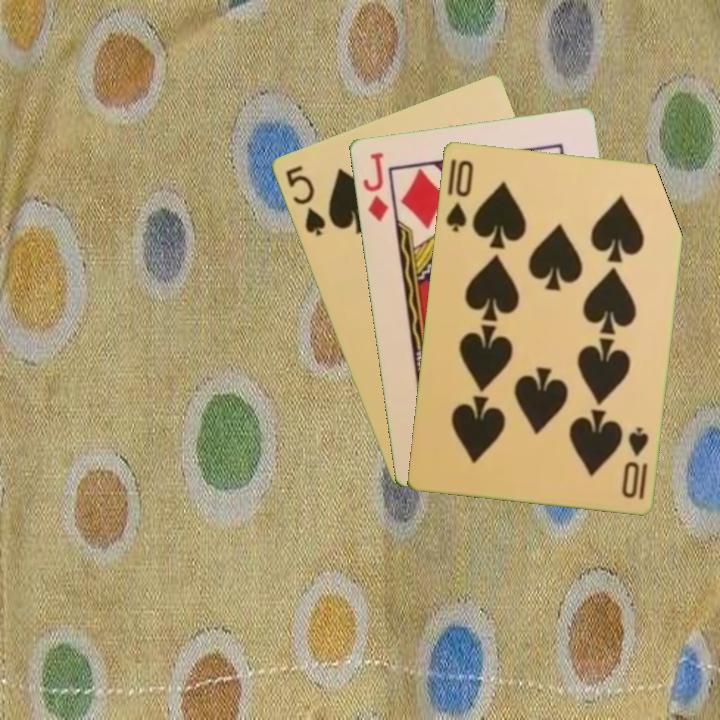10s: (442, 155, 476, 235), (618, 422, 651, 503)
5s: (281, 161, 328, 239)
Jd: (359, 148, 391, 224)
